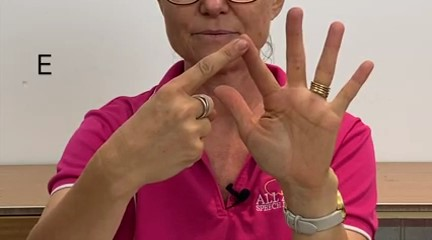E: (110, 4, 385, 200)
